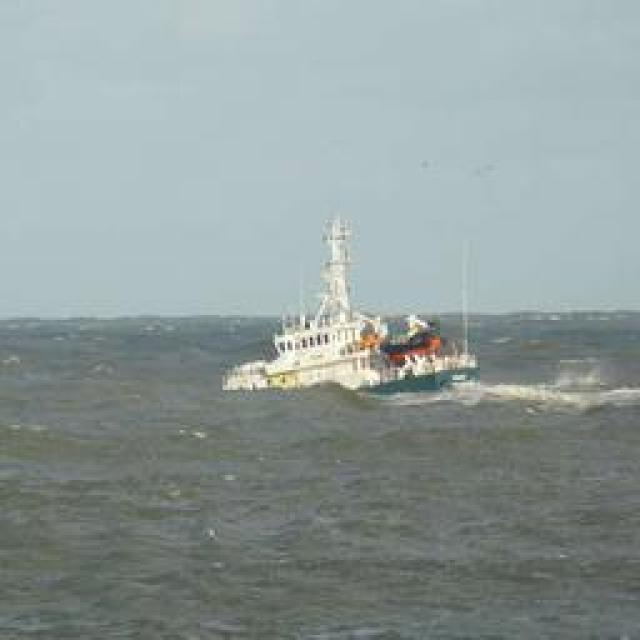ship2: (224, 203, 479, 393)
